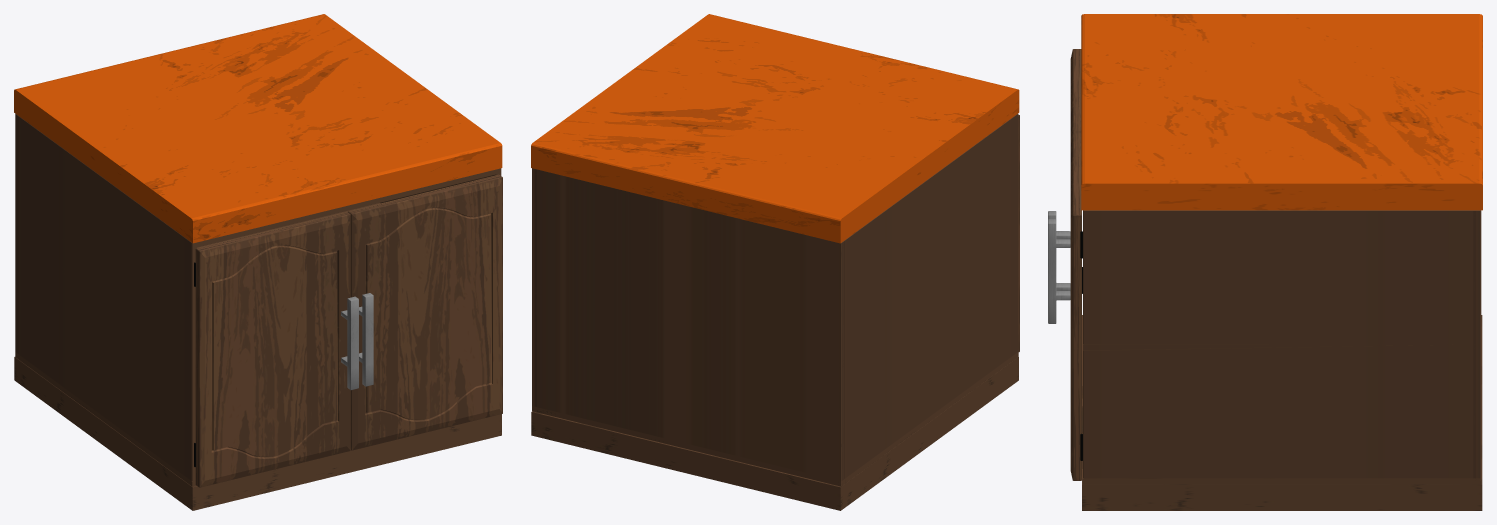
The model's file is bot - cab - Two door.fbx.
3 renders of one model, left to right at view 1: azimuth 30°, elevation 25°; view 2: azimuth 150°, elevation 25°; view 3: azimuth 270°, elevation 25°, orthographic. The views are drawn at different scales.
Parts seen in each view (by area): view 1: cabinet shell, cab - door left001, cab - door left.001; view 2: cabinet shell; view 3: cabinet shell, cab - door left.001, cab - door left001.
Boxes of the visible parts, x1,y1,x2,y2 form: cabinet shell: [14, 14, 502, 510]; cab - door left001: [195, 211, 358, 487]; cab - door left.001: [348, 174, 502, 450]; cabinet shell: [531, 14, 1019, 510]; cabinet shell: [1080, 14, 1482, 510]; cab - door left.001: [1048, 132, 1081, 480]; cab - door left001: [1048, 49, 1081, 290].
Size of the model in its own units: 10481 by 11356 by 9437.
